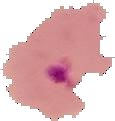parasitized: (37, 47, 93, 93)
